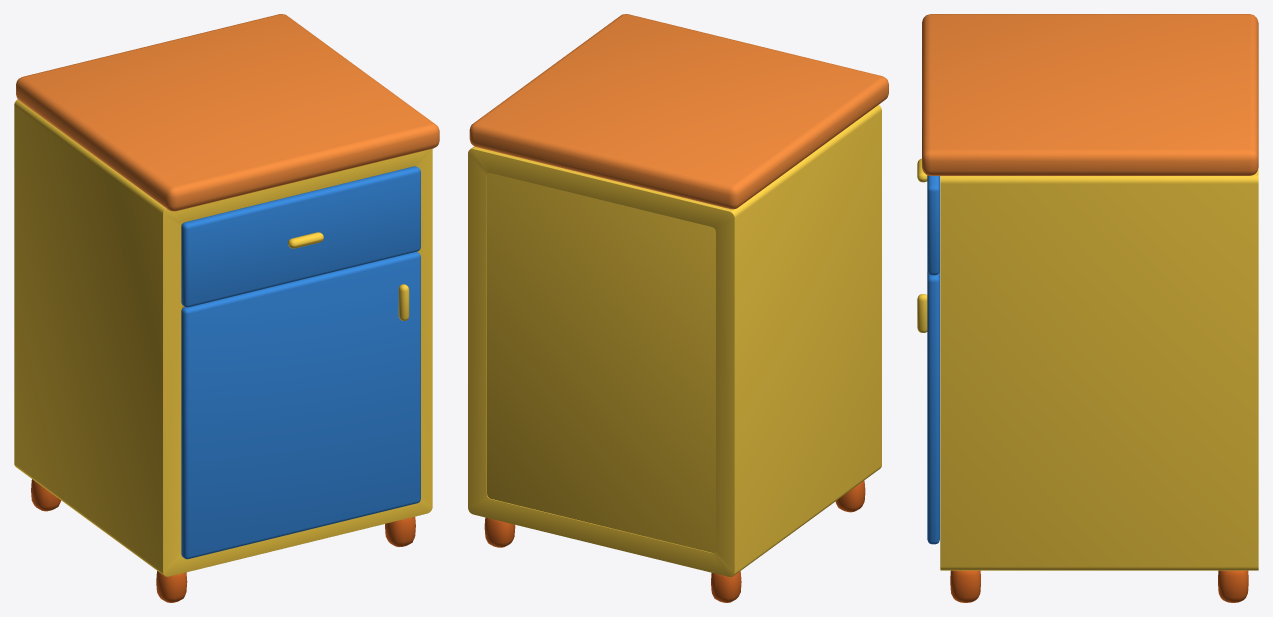
Rendered from armario_cozinha_base_gaveta_porta_moderna.glb.
3 renders of one model, left to right at view 1: azimuth 30°, elevation 25°; view 2: azimuth 150°, elevation 25°; view 3: azimuth 270°, elevation 25°, orthographic. The views are drawn at different scales.
Parts seen in each view (by area): view 1: armario_cozinha_base_gaveta_porta_moderna, porta_1, gaveta_1; view 2: armario_cozinha_base_gaveta_porta_moderna; view 3: armario_cozinha_base_gaveta_porta_moderna, porta_1, gaveta_1.
Boxes of the visible parts, left/top/right/bottom form: armario_cozinha_base_gaveta_porta_moderna: left=14, top=14, right=439, bottom=602; porta_1: left=181, top=251, right=420, bottom=559; gaveta_1: left=181, top=166, right=420, bottom=307; armario_cozinha_base_gaveta_porta_moderna: left=468, top=14, right=888, bottom=602; armario_cozinha_base_gaveta_porta_moderna: left=922, top=14, right=1258, bottom=602; porta_1: left=917, top=271, right=939, bottom=544; gaveta_1: left=917, top=158, right=939, bottom=275.
Size of the model in its own units: 0.598 by 0.9 by 0.607.
Materials: 1 (1 with a texture image).
